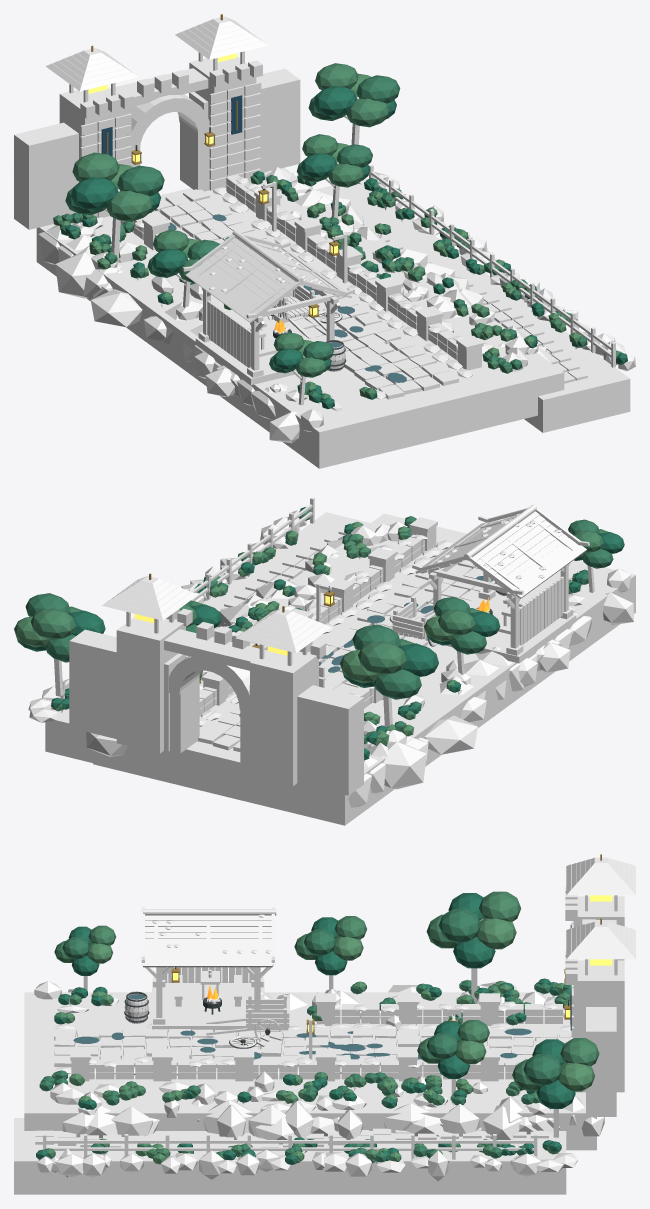
The model's file is SCN_01_Assembled.glb.
The picture shows the model from 3 angles, top to bottom: view 1: azimuth 30°, elevation 25°; view 2: azimuth 150°, elevation 25°; view 3: azimuth 270°, elevation 25°; orthographic projection. The views are drawn at different scales.
Parts seen in each view (by area): view 1: Main mountain shelf, Lower bypass terrace, Gate curtain, Gate curtain.001, Pavilion foundation, Portal pier.001, Gate tower, Gate tower.001, Layered mountain rock.006, Layered mountain rock.035, Tree canopy.011, Tree canopy.009 (+18 smaller); view 2: Main mountain shelf, Gate tower, Gate curtain, Gate tower.001, Gate curtain.001, Lower bypass terrace, Gate upper lintel, Pavilion foundation, Portal pier.001, Layered mountain rock.035, Layered mountain rock.006, Tree canopy.013 (+31 smaller); view 3: Main mountain shelf, Lower bypass terrace, Pavilion foundation, Gate tower.001, Gate curtain.001, Tree canopy.012, Gate tower, Tree canopy.013, Tree canopy.010, Tree canopy.026, Tree canopy.007, Layered mountain rock.042 (+34 smaller).
Boxes of the visible parts, x1,y1,x2,y2 form: Main mountain shelf: (36, 168, 564, 468); Lower bypass terrace: (314, 183, 630, 432); Gate curtain: (14, 122, 78, 229); Gate curtain.001: (189, 68, 300, 172); Pavilion foundation: (195, 319, 320, 385); Portal pier.001: (180, 119, 212, 191); Gate tower: (59, 88, 126, 217); Gate tower.001: (189, 56, 256, 187); Layered mountain rock.006: (90, 289, 142, 327); Layered mountain rock.035: (55, 252, 94, 298); Tree canopy.011: (71, 177, 118, 210); Tree canopy.009: (106, 190, 153, 221); Main mountain shelf: (93, 513, 635, 825); Gate tower: (250, 650, 318, 785); Gate curtain: (249, 685, 363, 795); Gate tower.001: (116, 617, 185, 753); Gate curtain.001: (69, 629, 183, 751); Lower bypass terrace: (45, 512, 370, 762); Gate upper lintel: (164, 629, 266, 670); Pavilion foundation: (426, 595, 576, 663); Portal pier.001: (170, 677, 199, 753); Layered mountain rock.035: (381, 741, 426, 789); Layered mountain rock.006: (425, 715, 477, 754); Tree canopy.013: (358, 640, 406, 675); Main mountain shelf: (24, 992, 596, 1150); Lower bypass terrace: (14, 1118, 566, 1194); Pavilion foundation: (152, 981, 264, 1032); Gate tower.001: (573, 960, 624, 1092); Gate curtain.001: (586, 1007, 616, 1116); Tree canopy.012: (439, 908, 481, 942); Gate tower: (573, 896, 624, 960); Tree canopy.013: (479, 891, 521, 921); Tree canopy.010: (476, 918, 516, 949); Tree canopy.026: (523, 1054, 562, 1084); Tree canopy.007: (453, 936, 495, 968); Layered mountain rock.042: (111, 1106, 152, 1136).
Bounding box in the file's own units: 21.22 × 11.7 × 30.4.
